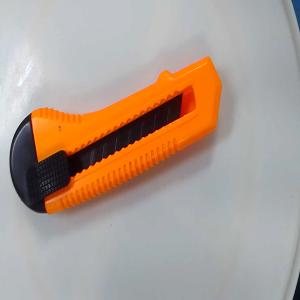estilete: (9, 56, 223, 216)
